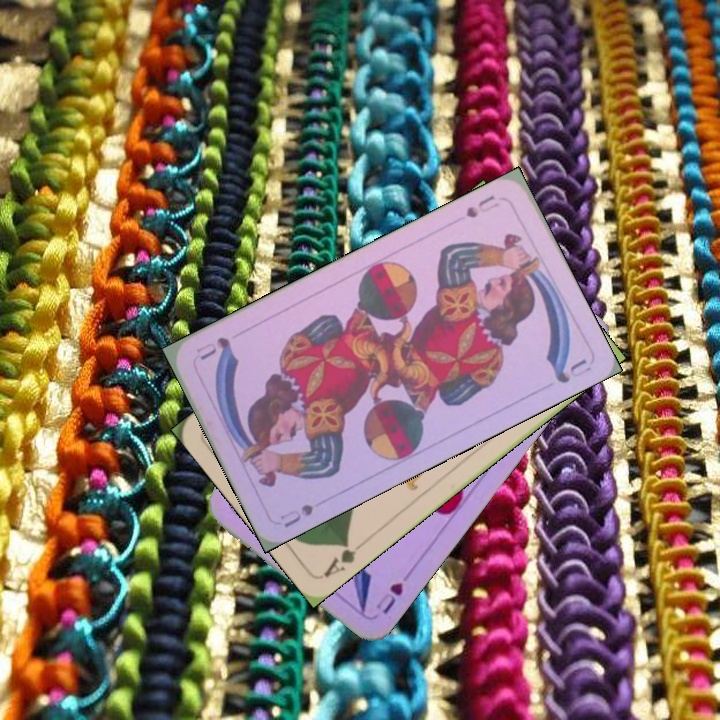GA: (319, 536, 369, 581)
HU: (371, 578, 406, 617)
SU: (275, 499, 317, 531), (462, 191, 497, 221)
